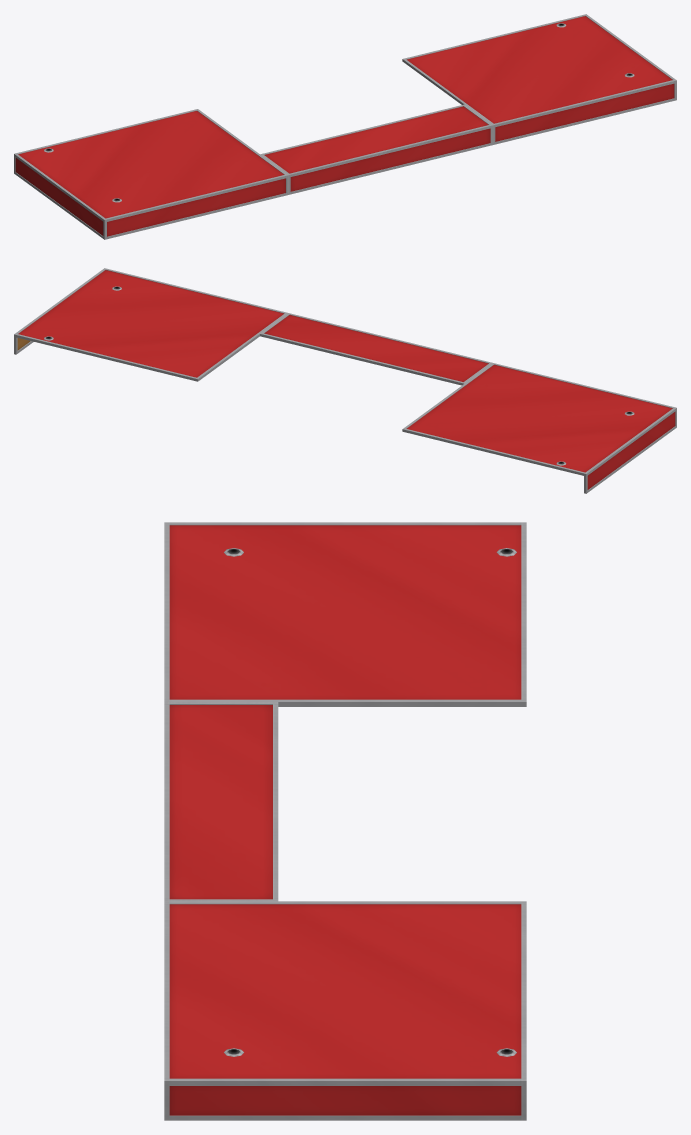
The model's file is jsf_4P_s04_c06_t02_DX.fbx.
3 renders of one model, top to bottom at view 1: azimuth 30°, elevation 25°; view 2: azimuth 150°, elevation 25°; view 3: azimuth 270°, elevation 25°, orthographic. The views are drawn at different scales.
Visible parts, largest first — view 1: jsf_4P_s04_c06_t02_DX; view 2: jsf_4P_s04_c06_t02_DX; view 3: jsf_4P_s04_c06_t02_DX.
Boxes of the visible parts, x1,y1,x2,y2 form: jsf_4P_s04_c06_t02_DX: [14, 14, 676, 239]; jsf_4P_s04_c06_t02_DX: [14, 268, 676, 493]; jsf_4P_s04_c06_t02_DX: [164, 522, 526, 1120].
Bounding box in the file's own units: 378 × 12.99 × 104.
